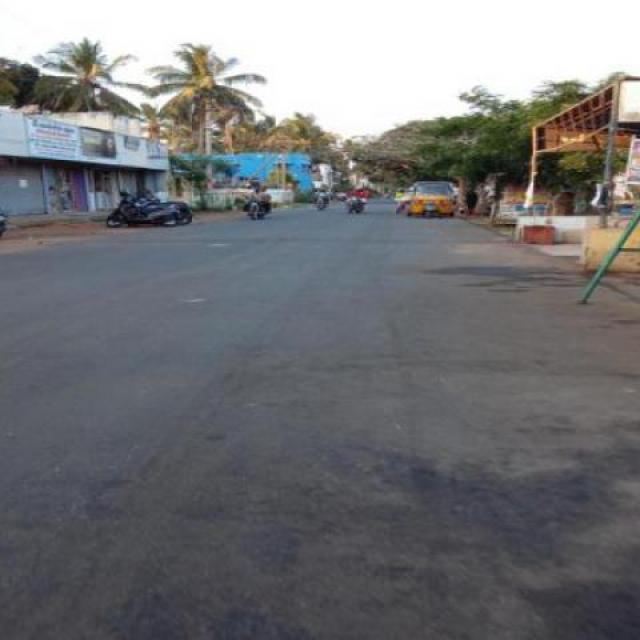Unmarked Bump: (47, 229, 526, 244)
